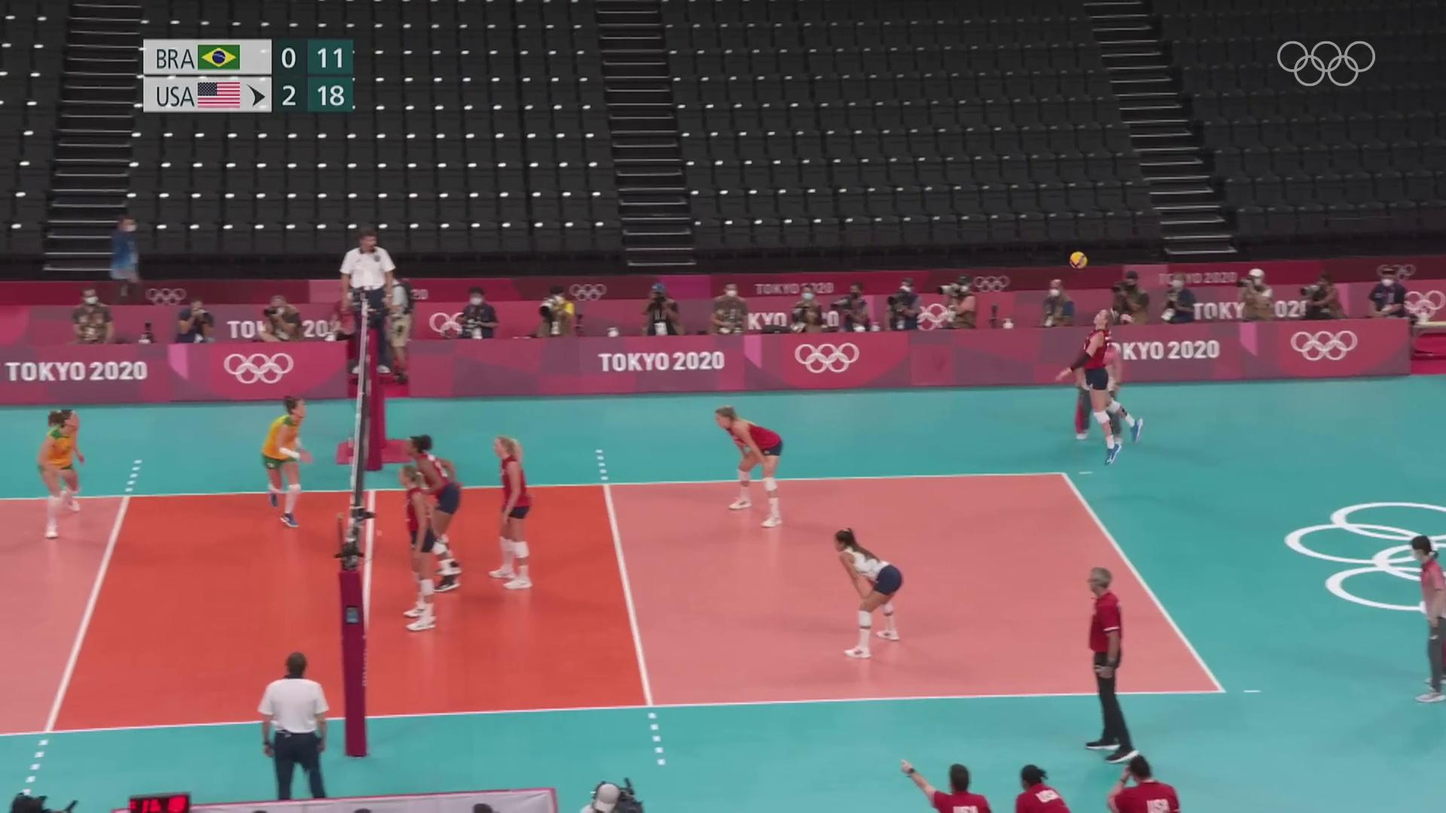player: (1063, 309, 1144, 463), (832, 530, 908, 658), (404, 434, 465, 593), (714, 406, 786, 528), (261, 392, 318, 530), (488, 436, 538, 592), (397, 466, 442, 638), (36, 408, 89, 540)
refree: (261, 653, 331, 799), (340, 231, 398, 373), (1405, 533, 1446, 706), (1075, 333, 1127, 443)
